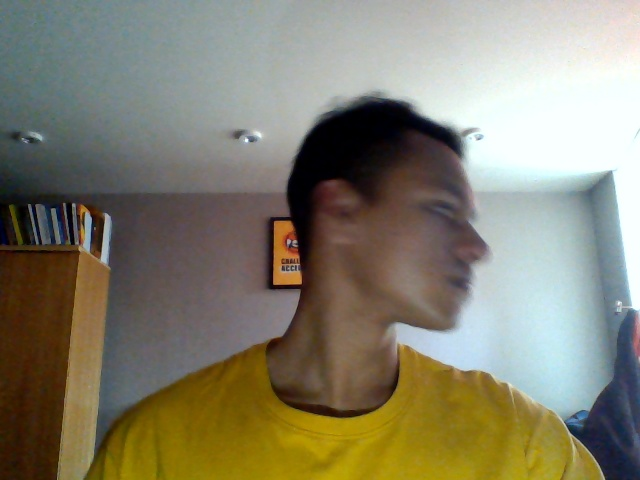no_mask: (331, 225, 494, 333)
